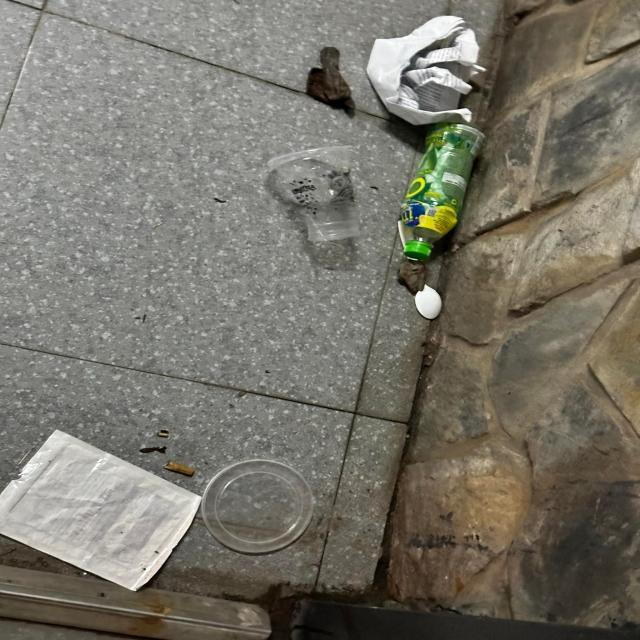bottle: (402, 122, 489, 258)
lid: (202, 460, 317, 554)
paper: (365, 14, 488, 126)
plastic glass: (266, 144, 363, 242)
plastic utensil: (397, 219, 444, 319)
snack package: (0, 428, 203, 592)
